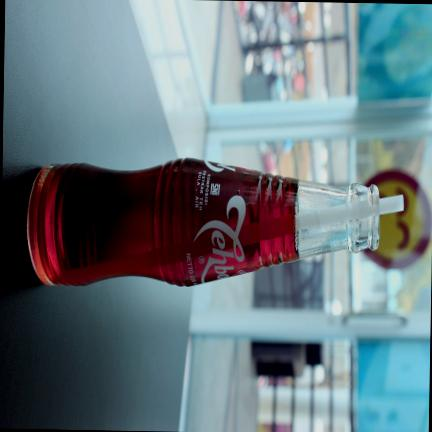container: (26, 157, 378, 286)
fluid: (30, 160, 298, 284)
fluid-surface: (292, 183, 299, 255)
